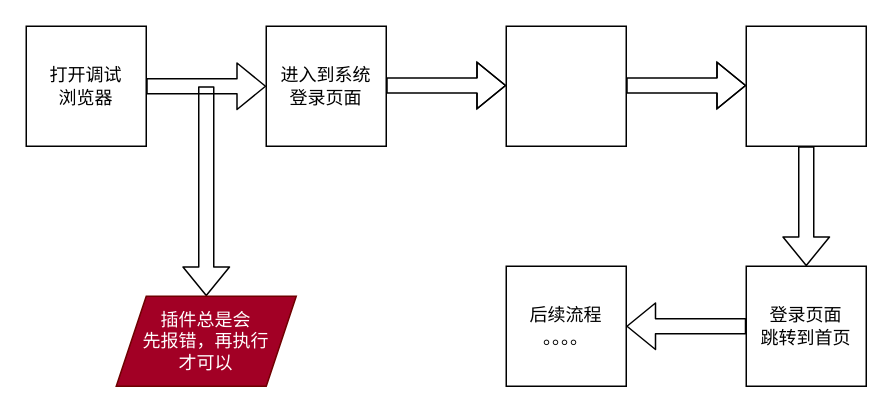
The diagram is 893 pixels wide and 413 high, and some of its shapes have lost their labels. The shapes that lost their labels are listed below. From the top down, each one's box as (x1, y1, x2, y2) in pixels, then its label:
(505, 25, 626, 146): 点击获取 验证码的按钮
(745, 25, 866, 146): 在控制台 得到验证码
